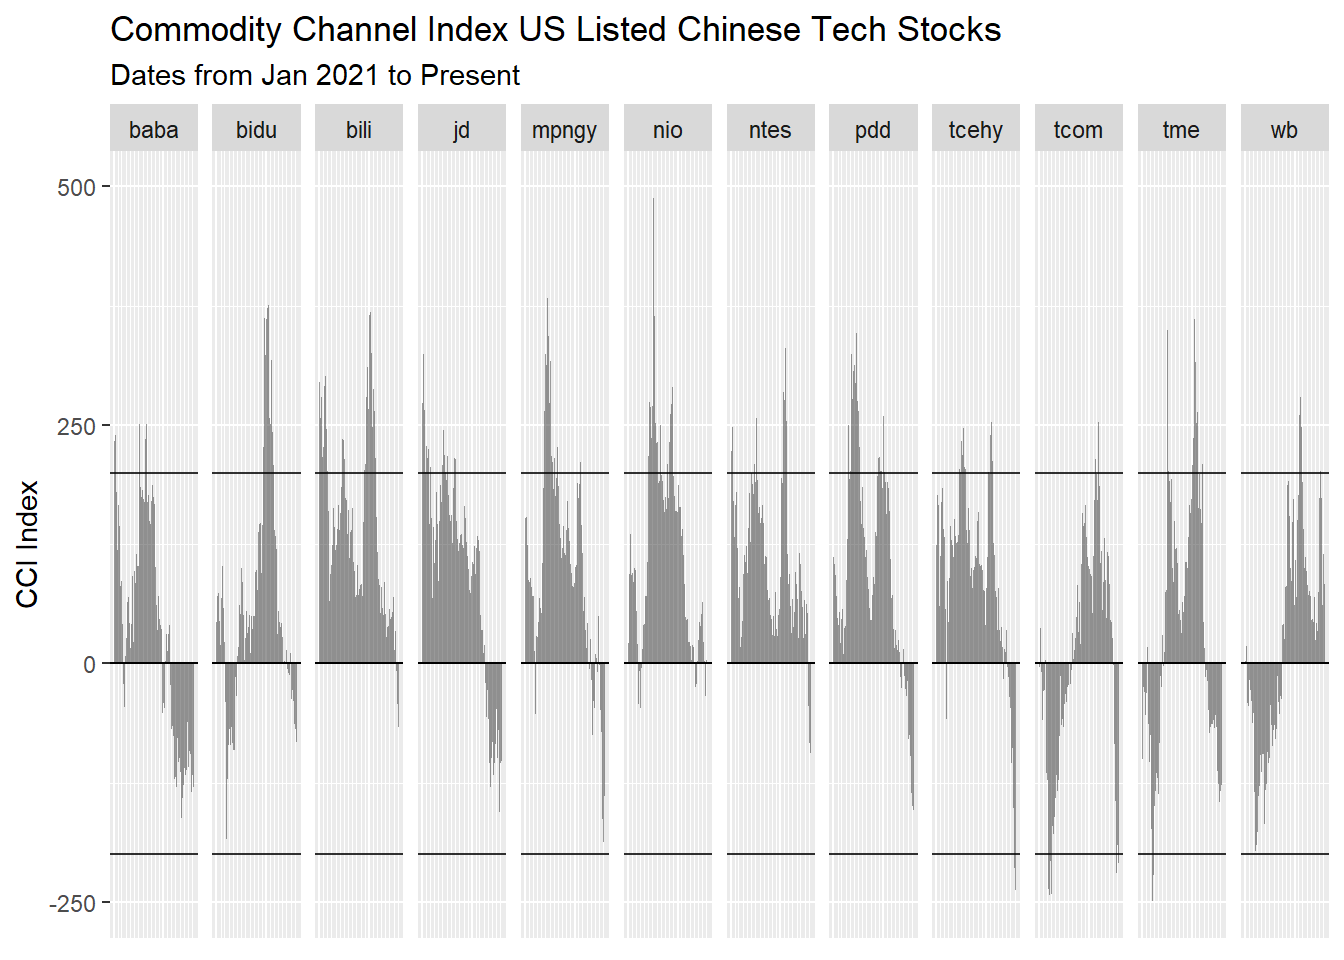

What the dashboard file says about the page in this screenshot:
{"tool":"tableau","page":{"name":"Dashboard 1","canvas":[650,860],"ordinal":0},"visuals":[{"type":"currpage","title":"Sheet 2","box":[8,8,634,37]},{"type":"worksheet","title":"Sheet 2","mark":"Bar","rows":["CCI","CCI"],"cols":["time"],"box":[8,45,634,807]}]}

Visuals, with their boxes on the page's 650x860 design canvas (x1, y1, x2, y2). These are canvas units, not pixel positions in the 1344x960 screenshot, which may show the page scaled, cropped or inside an application window:
"Sheet 2" currpage: <bbox>8, 8, 642, 45</bbox>
"Sheet 2" worksheet (Bar marks): <bbox>8, 45, 642, 852</bbox>
